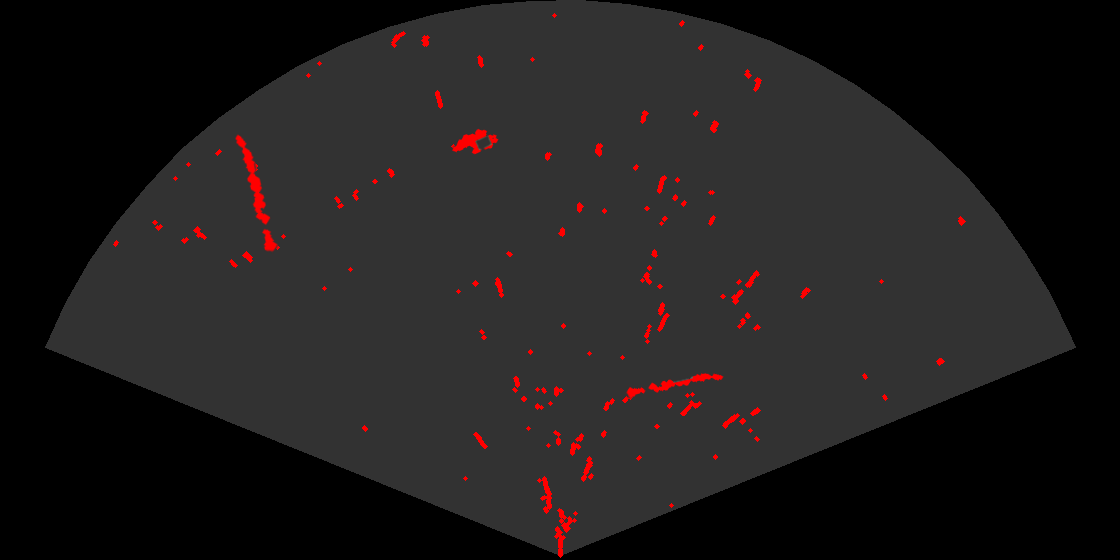AUV: (451, 127, 500, 156)
chain: (234, 133, 280, 254), (624, 372, 725, 399)
